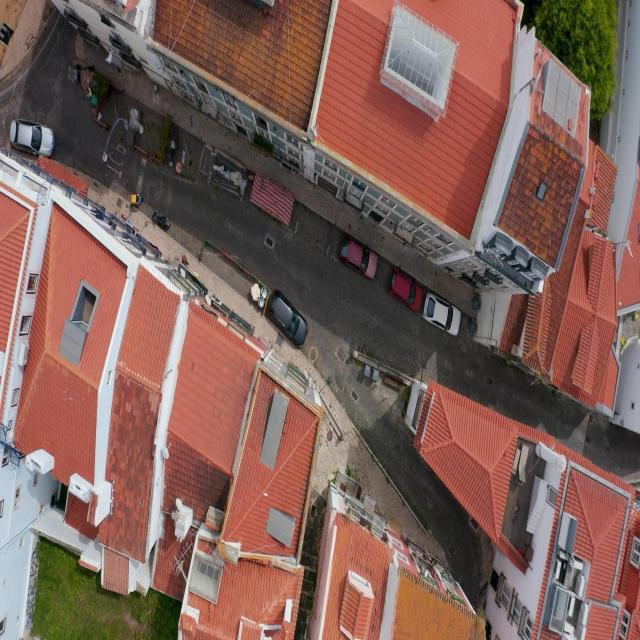Car: (267, 288, 308, 348), (338, 232, 378, 280), (10, 118, 56, 158), (423, 292, 461, 336), (387, 266, 423, 312)
Cycle: (153, 210, 171, 229), (169, 131, 178, 167)
